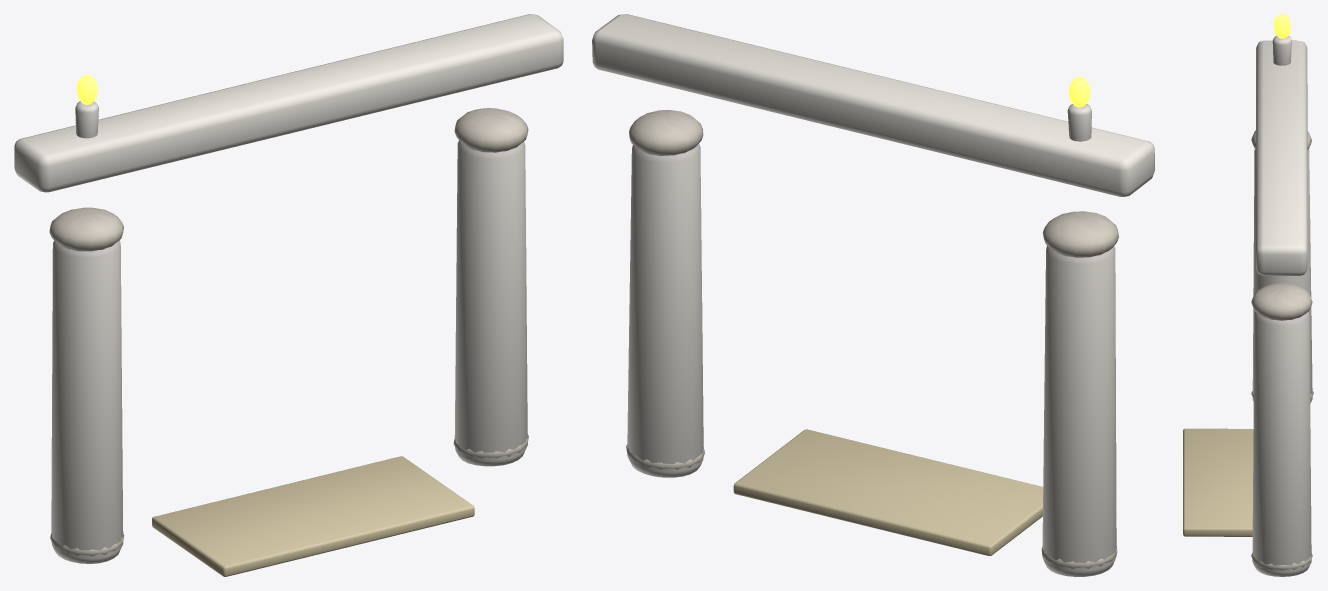
3 renders of one model, left to right at view 1: azimuth 30°, elevation 25°; view 2: azimuth 150°, elevation 25°; view 3: azimuth 270°, elevation 25°, orthographic. The views are drawn at different scales.
Parts seen in each view (by area): view 1: gate_90333f7e; view 2: gate_90333f7e; view 3: gate_90333f7e.
Part boxes in pixels (left/top/right/bottom): gate_90333f7e: left=14, top=14, right=563, bottom=576; gate_90333f7e: left=592, top=14, right=1154, bottom=576; gate_90333f7e: left=1183, top=14, right=1313, bottom=576.
Size of the model in its own units: 5.01 by 4.37 by 1.32.
